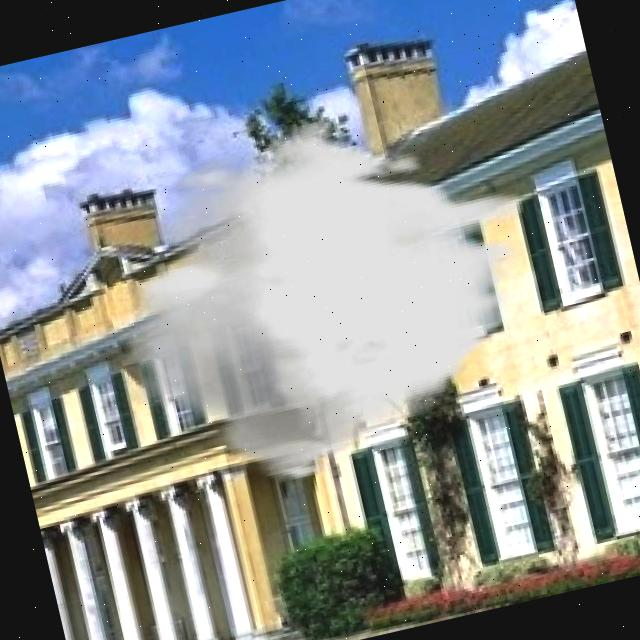smoke: (78, 78, 571, 513)
